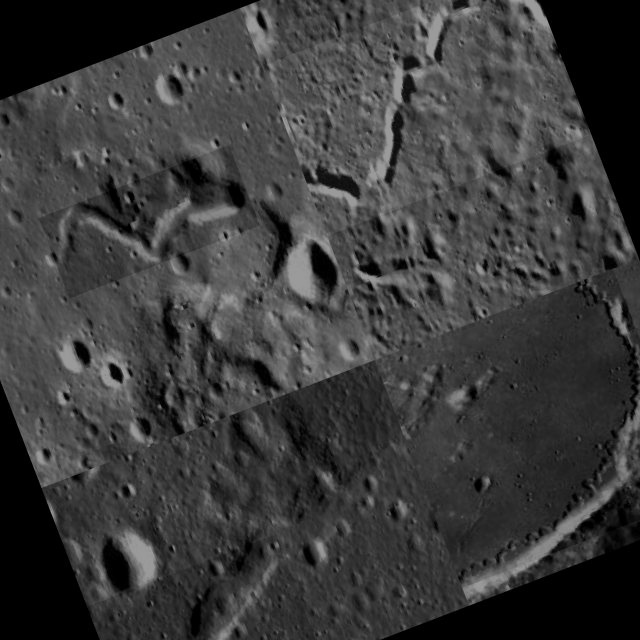crater: (374, 268, 640, 588), (262, 0, 590, 236), (38, 146, 260, 298), (87, 534, 318, 640)
